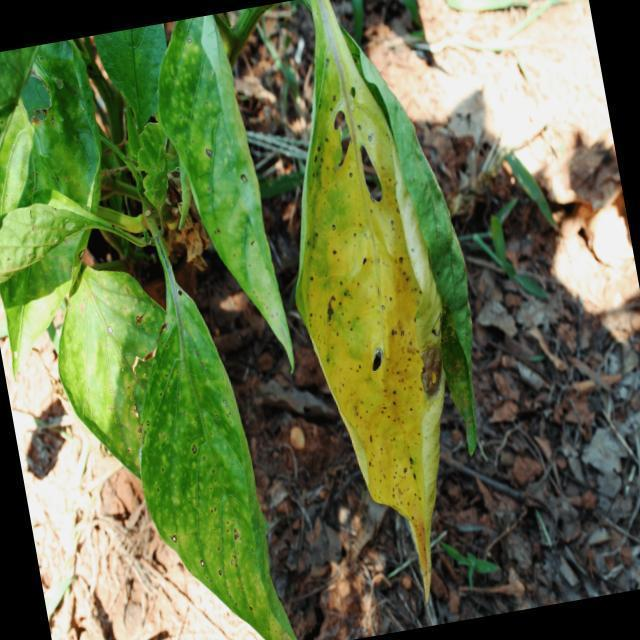Bacterial Spot: (302, 90, 439, 512), (160, 360, 260, 592), (190, 104, 262, 272)
